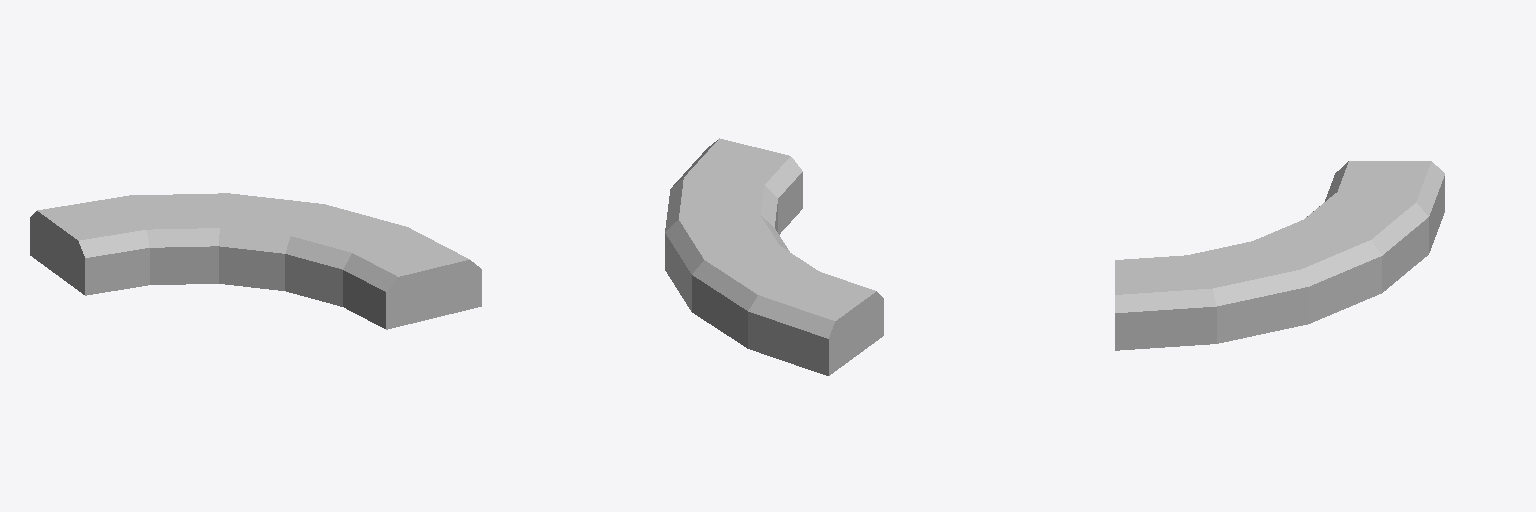
The model's file is struct_wall_curved_base.obj.
3 renders of one model, left to right at view 1: azimuth 30°, elevation 25°; view 2: azimuth 150°, elevation 25°; view 3: azimuth 270°, elevation 25°, orthographic.
Parts seen in each view (by area): view 1: struct_wall_curved_base; view 2: struct_wall_curved_base; view 3: struct_wall_curved_base.
Boxes of the visible parts, box(x1,y1,x2,y2) form: struct_wall_curved_base: box(30, 193, 481, 329); struct_wall_curved_base: box(665, 138, 883, 375); struct_wall_curved_base: box(1115, 161, 1444, 350).
Bounding box in the file's own units: 1.2 × 0.2 × 1.2.